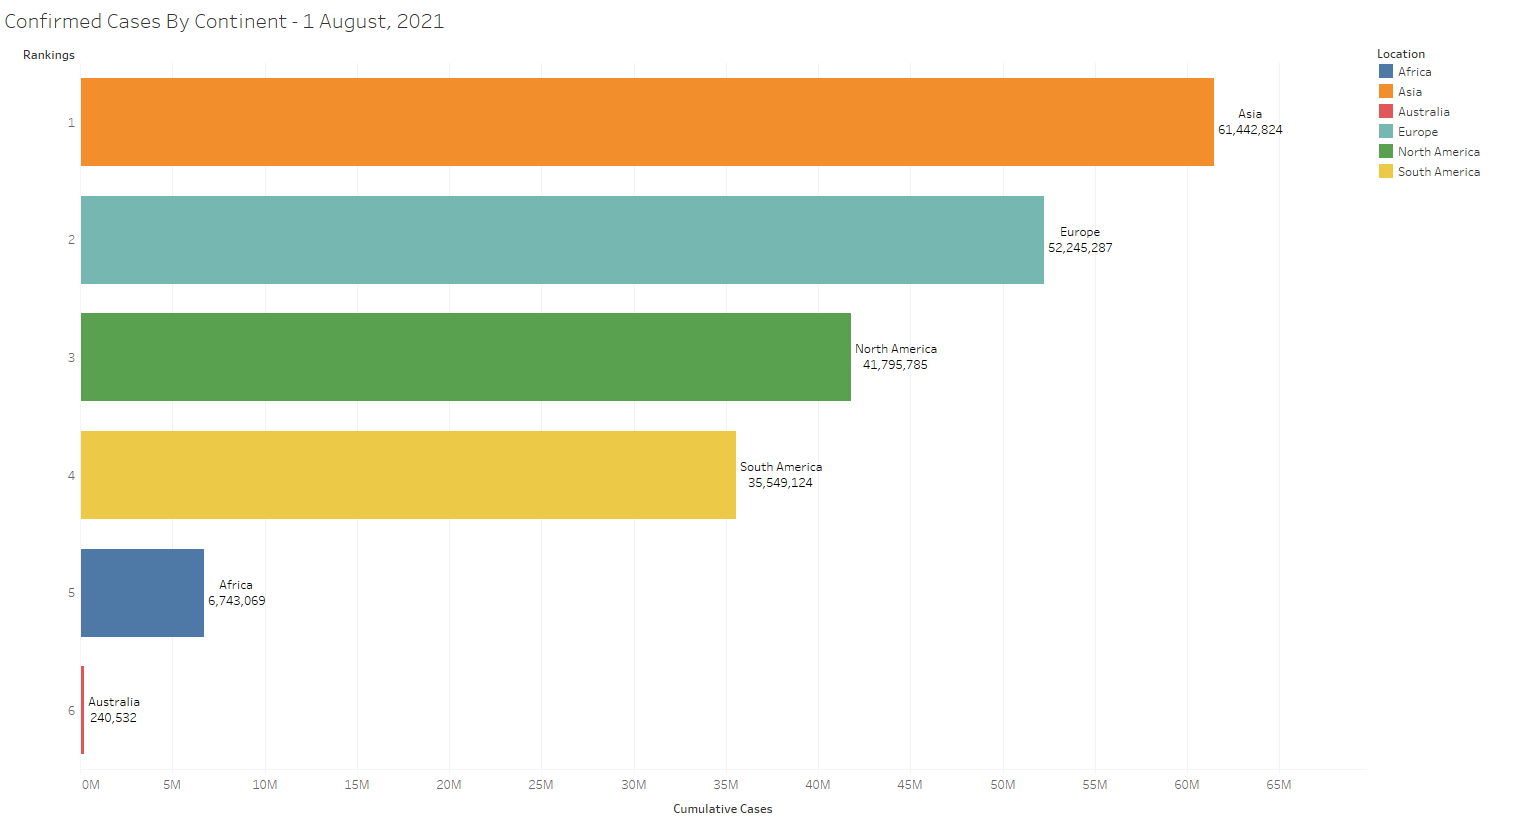

What the dashboard file says about the page in this screenshot:
{"tool":"tableau","page":{"name":"Dashboard 1","canvas":[1000,1000],"units":"permille","ordinal":0},"visuals":[{"type":"worksheet","title":"Confirmed Cases By Continent","mark":"Automatic","cols":["cumulative_cases"],"box":[4.7,8.8,990.6,982.3]},{"type":"currpage","title":"Confirmed Cases By Continent","box":[180.2,22.1,359.3,29.9]}]}

Visuals, with their boxes on the dashboard's canvas, which has no fixed pixel size, in thousandths of its width and height (x1, y1, x2, y2). These are canvas units, not pixel positions in the 1516x824 screenshot, which may show the page scaled, cropped or inside an application window:
"Confirmed Cases By Continent" worksheet: 5, 9, 995, 991
"Confirmed Cases By Continent" currpage: 180, 22, 540, 52
